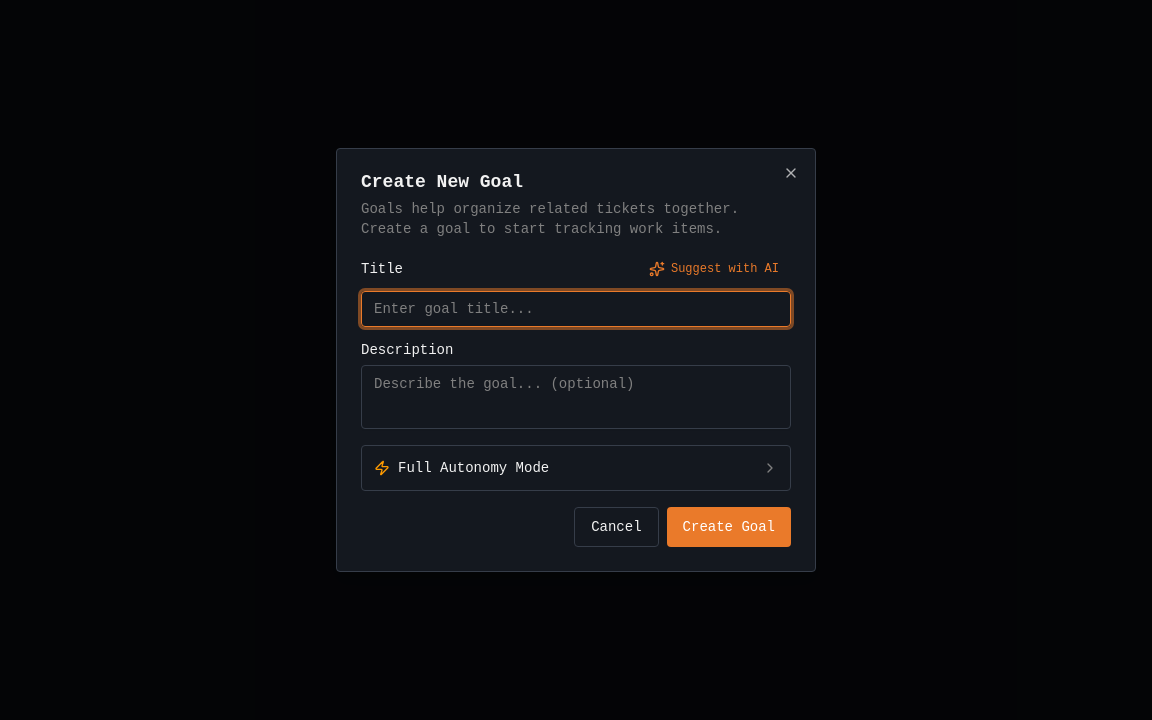
Test: CreateGoalDialog › shows validation error when submitting empty title
Step 1. Click the button "Create Goal" → (729, 527), box [667,507,791,547]
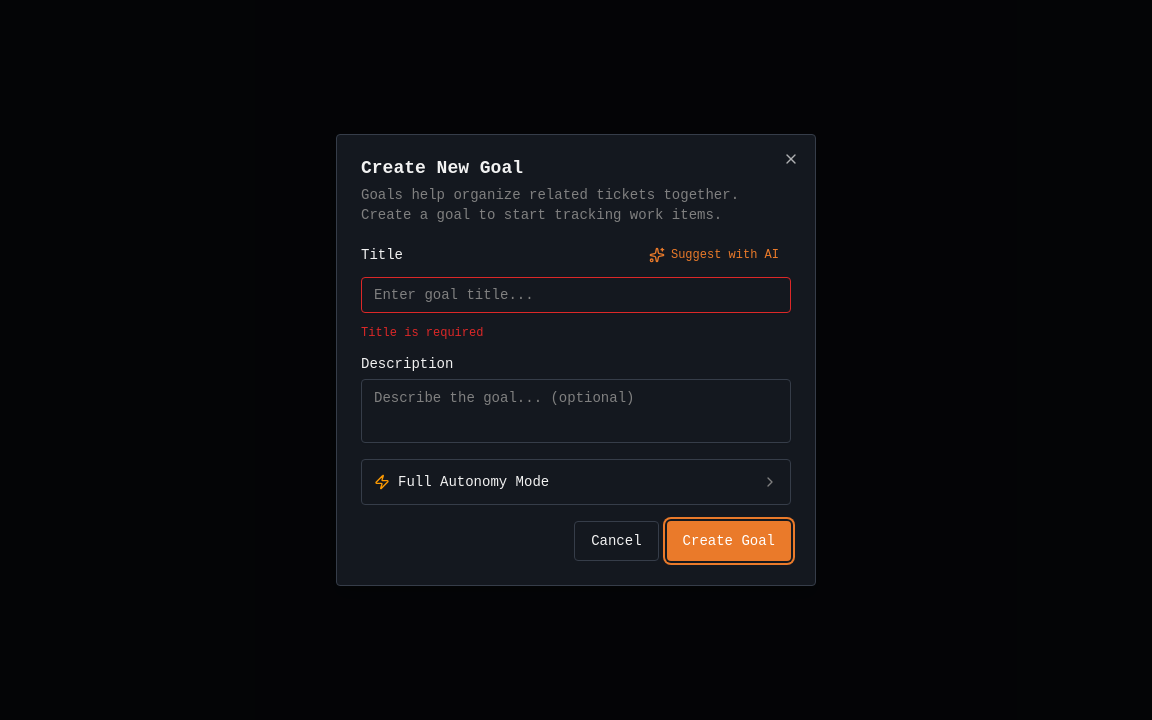
Now the text "Title is required" is shown, box [361,326,483,340]
